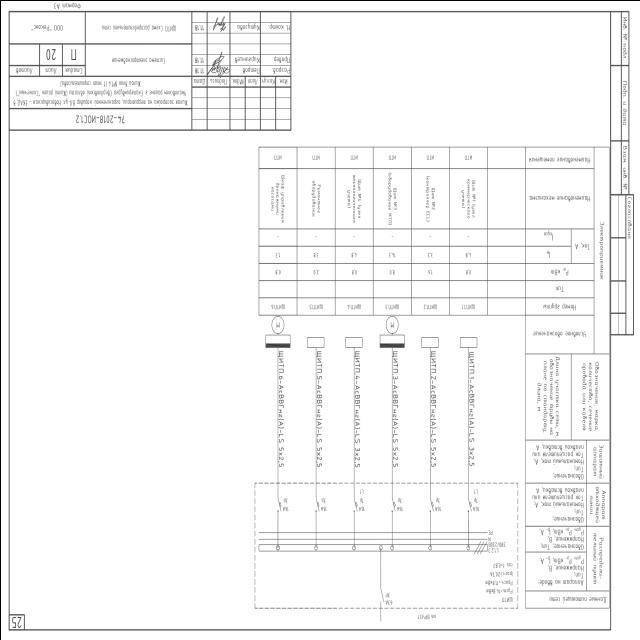-: (471, 486, 479, 512), (357, 487, 364, 511), (384, 590, 392, 606), (318, 496, 326, 512), (434, 494, 441, 512), (281, 496, 288, 512), (396, 496, 402, 512), (500, 596, 512, 602)
QF: (275, 496, 281, 514), (313, 495, 319, 513), (389, 495, 395, 513), (427, 495, 433, 513), (466, 496, 471, 514), (352, 495, 357, 512)
QS: (378, 586, 383, 604)
